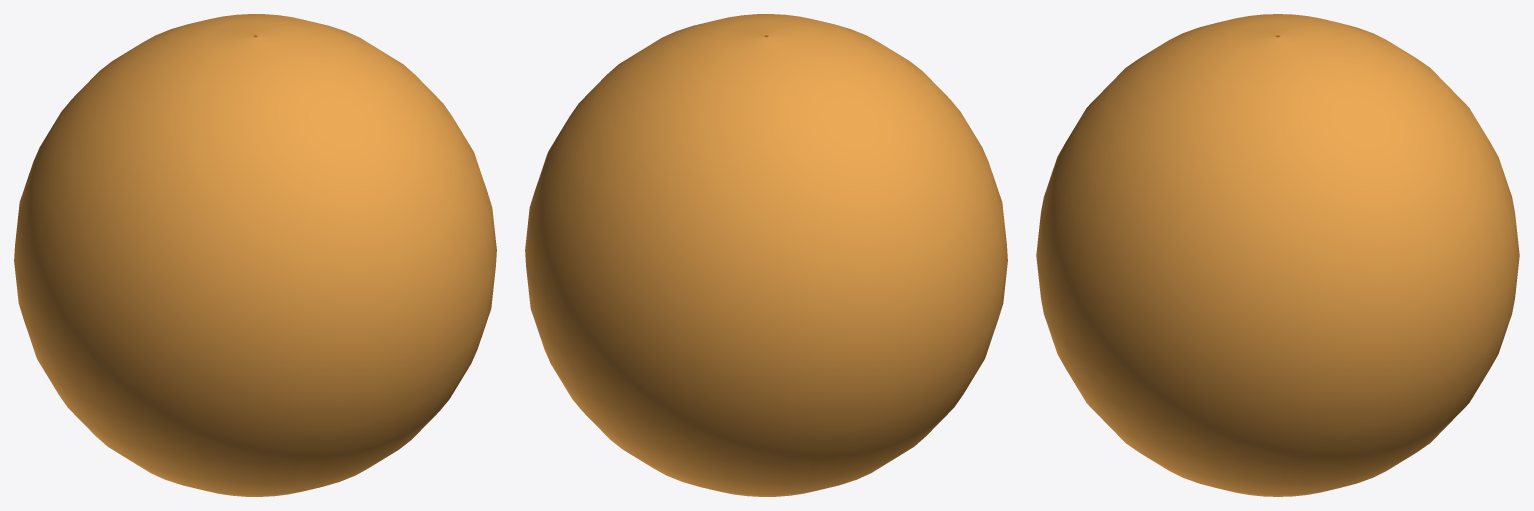
File: tita.glb
3 renders of one model, left to right at view 1: azimuth 30°, elevation 25°; view 2: azimuth 150°, elevation 25°; view 3: azimuth 270°, elevation 25°, orthographic.
Parts seen in each view (by area): view 1: tita; view 2: tita; view 3: tita.
Part boxes in pixels (<box>): tita: <box>14,14,496,496</box>; tita: <box>525,14,1007,496</box>; tita: <box>1036,14,1519,496</box>.
Bounding box in the file's own units: 2.14 × 2.14 × 2.14.
